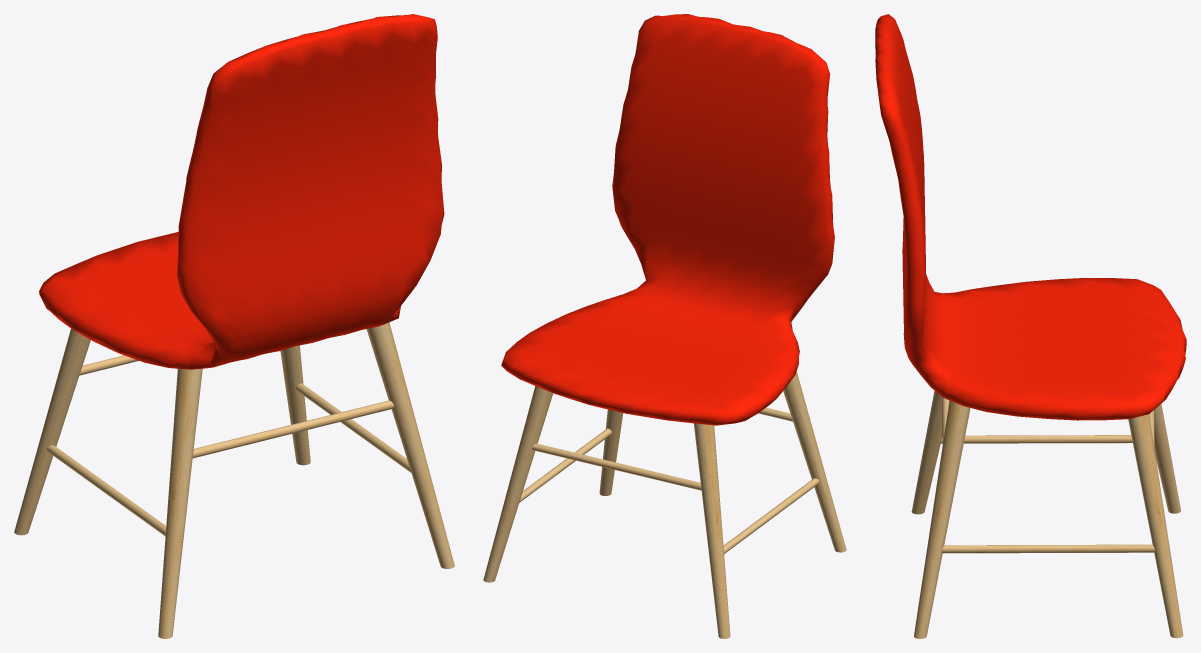
File: chair1_red.obj
3 views of the same model, side by side, from view 1: azimuth 30°, elevation 25°; view 2: azimuth 150°, elevation 25°; view 3: azimuth 270°, elevation 25° (orthographic). The views are drawn at different scales.
Parts seen in each view (by area): view 1: Box7268, Cone062, Cone061, Cone060, Cylinder388, Cone059, Cylinder389, Cylinder390; view 2: Box7268, Cone060, Cone059, Cone062, Cylinder387, Cone061, Cylinder389, Cylinder390; view 3: Box7268, Cone061, Cone059, Cylinder390, Cone062, Cylinder389, Cone060.
Part boxes in pixels (x1,y1,x2,y2): Box7268: (39,14,444,369); Cone062: (158,368,202,638); Cone061: (366,322,454,568); Cone060: (14,328,90,535); Cylinder388: (192,400,394,458); Cone059: (280,345,310,465); Cylinder389: (47,445,166,536); Cylinder390: (296,383,411,472); Box7268: (501,14,834,425); Cone060: (693,423,730,638); Cone059: (483,386,552,582); Cone062: (783,372,846,552); Cylinder387: (531,443,701,490); Cone061: (599,409,623,495); Cylinder389: (723,478,819,553); Cylinder390: (519,428,612,502); Box7268: (875,14,1186,420); Cone061: (914,400,970,638); Cone059: (1128,414,1183,638); Cylinder390: (941,544,1155,553); Cone062: (911,390,942,514); Cylinder389: (940,435,1132,443); Cone060: (1154,404,1180,513).
Bounding box in the file's own units: 38.45 × 71.65 × 38.32.
Materials: 2 (1 with a texture image).
